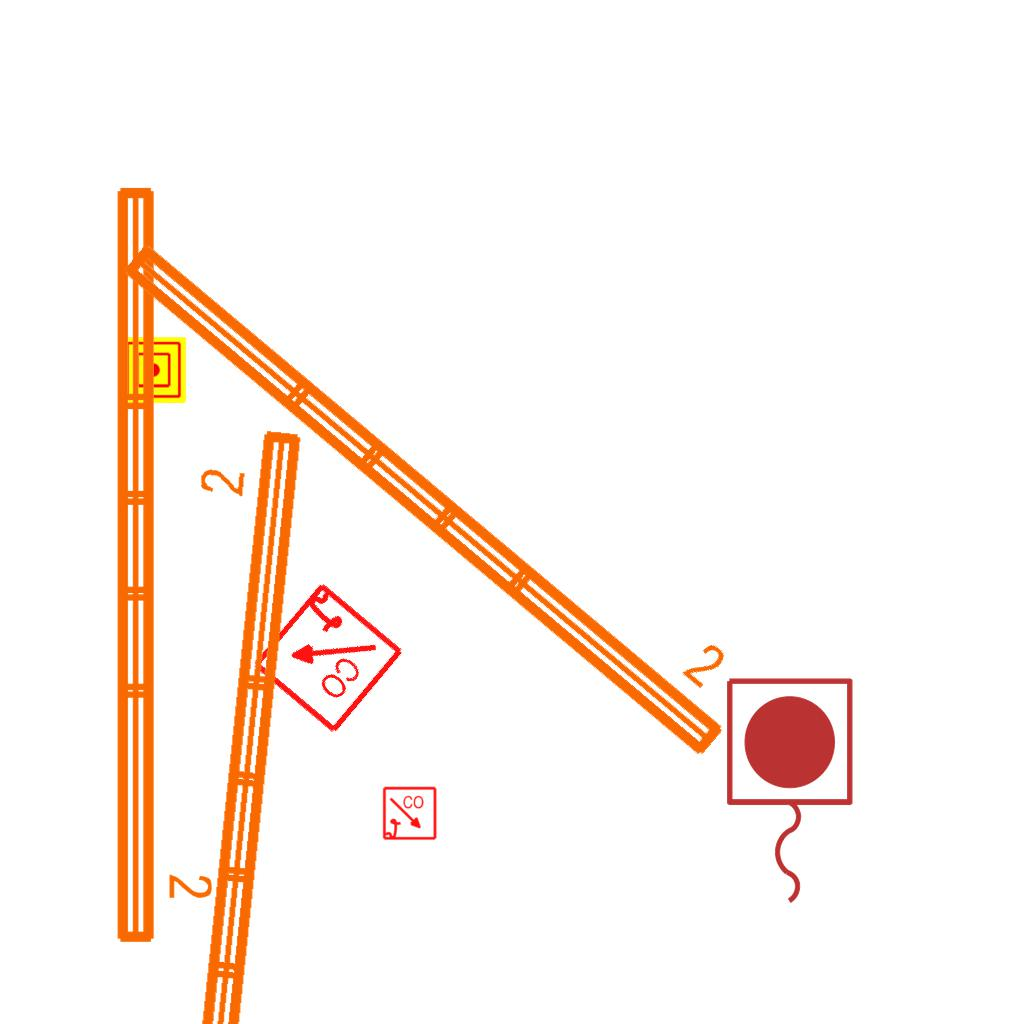Ambulanz_Pendelleuchte_LED: (106, 188, 772, 772), (121, 415, 315, 1024), (105, 177, 217, 951)
NAM-Nichtautomatischer_Melder: (120, 337, 186, 403)
ROA_Rauchmelder_optisch_mit_Signalgeber_(Sockelsirene): (246, 577, 407, 738), (382, 786, 438, 842)
Zugtaster: (716, 670, 860, 914)
